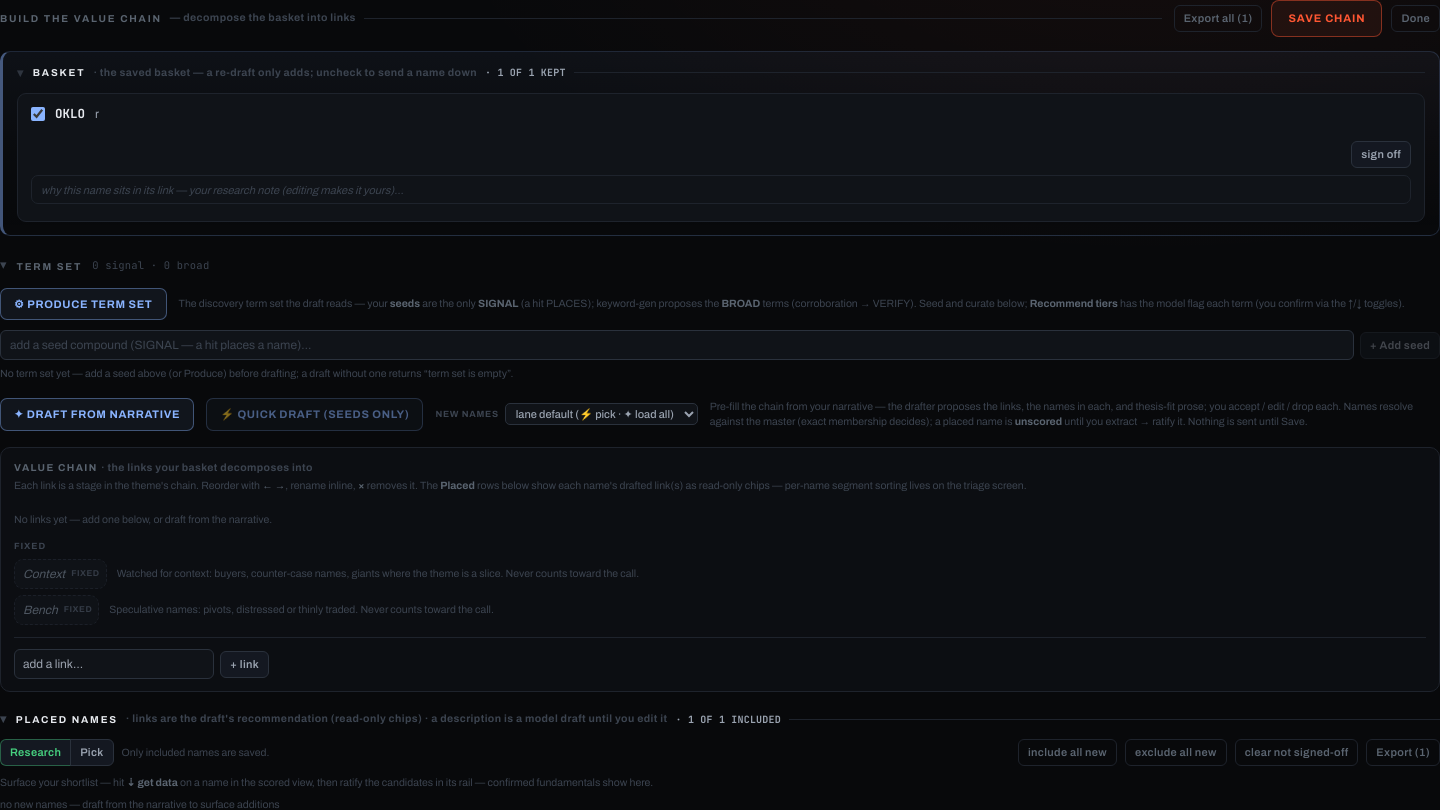
Test: ChainEditor — draft from narrative (S5 5c) › sign off ⇄ withdraw is a reversible toggle (#1) that NEVER touches authorship — the label stays honest
Click the button "✦ Draft from narrative": [97, 414] box [0,398,194,430]
(page scrolled)
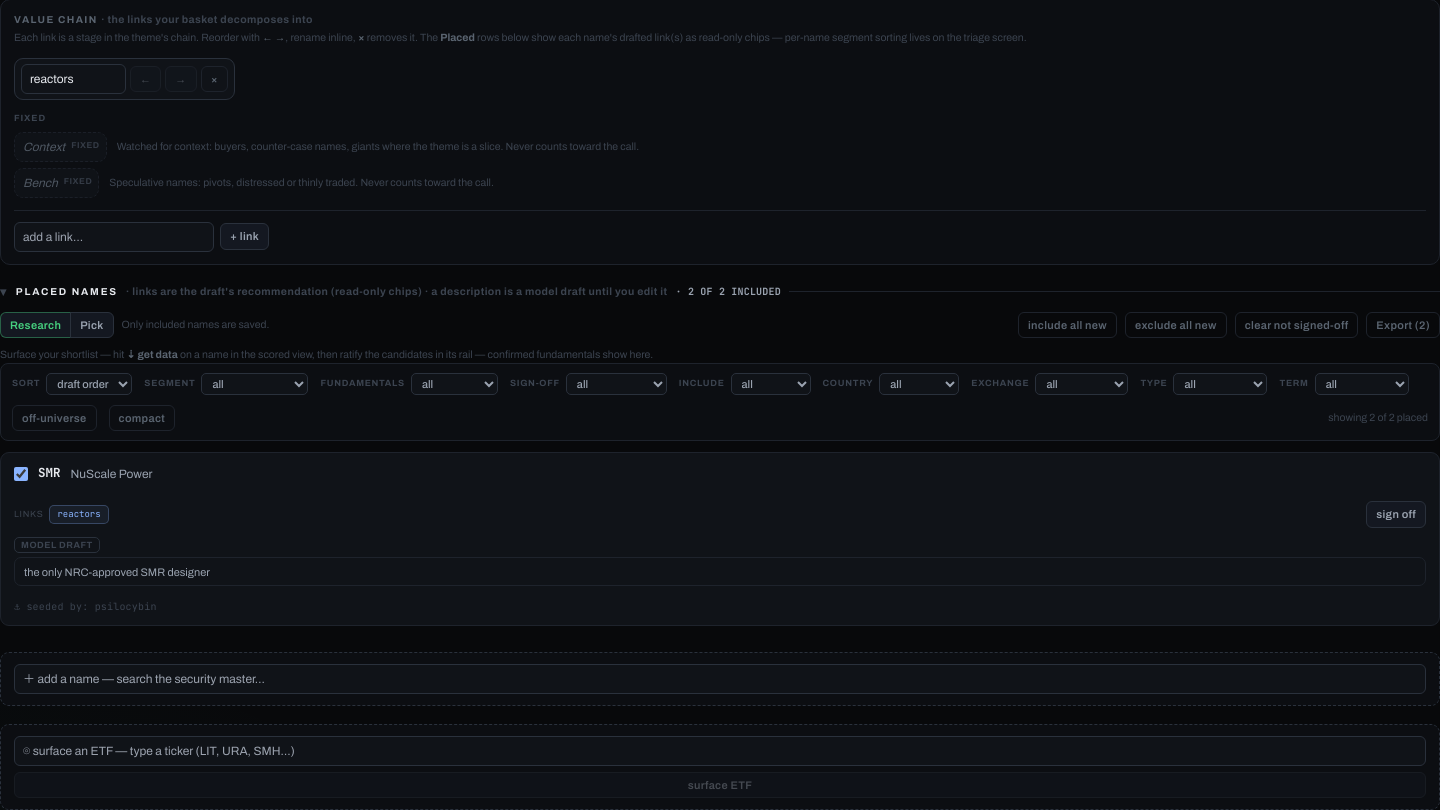
Result: the checkbox named "include SMR" is shown at [14,467,28,481]
Click the button with aria-label "sign off SMR": [1396, 514] box [1366,501,1426,528]
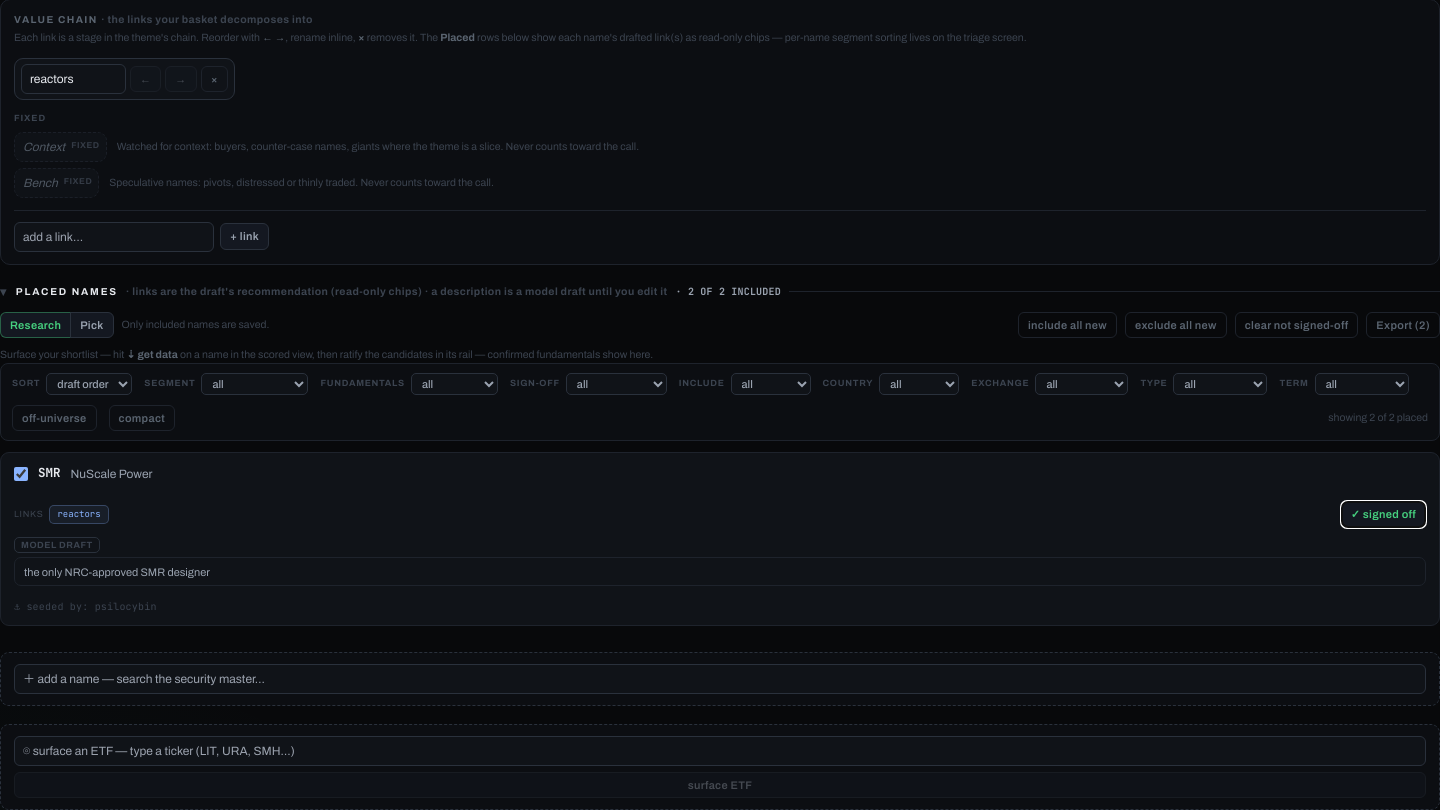
Result: the text "model draft" is shown at [14,536,100,552]
Result: the button with aria-label "withdraw sign-off SMR" is shown
Click the button with aria-label "withdraw sign-off SMR": [1383, 514] box [1341,501,1426,528]
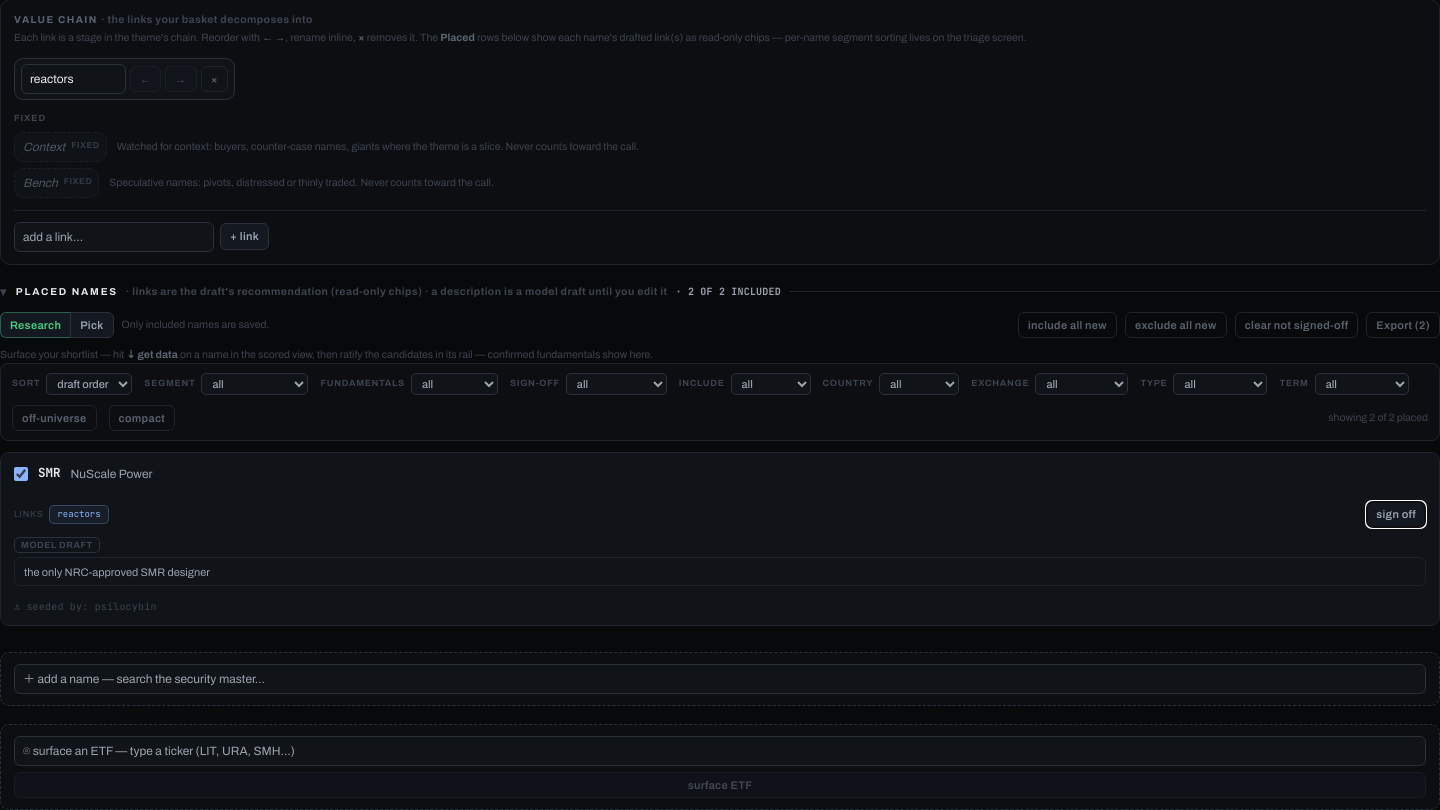
Result: the text box named "thesis-fit for SMR" holds "the only NRC-approved SMR designer" at [14,557,1426,586]
Result: the button with aria-label "sign off SMR" is shown at [1366,501,1426,528]
